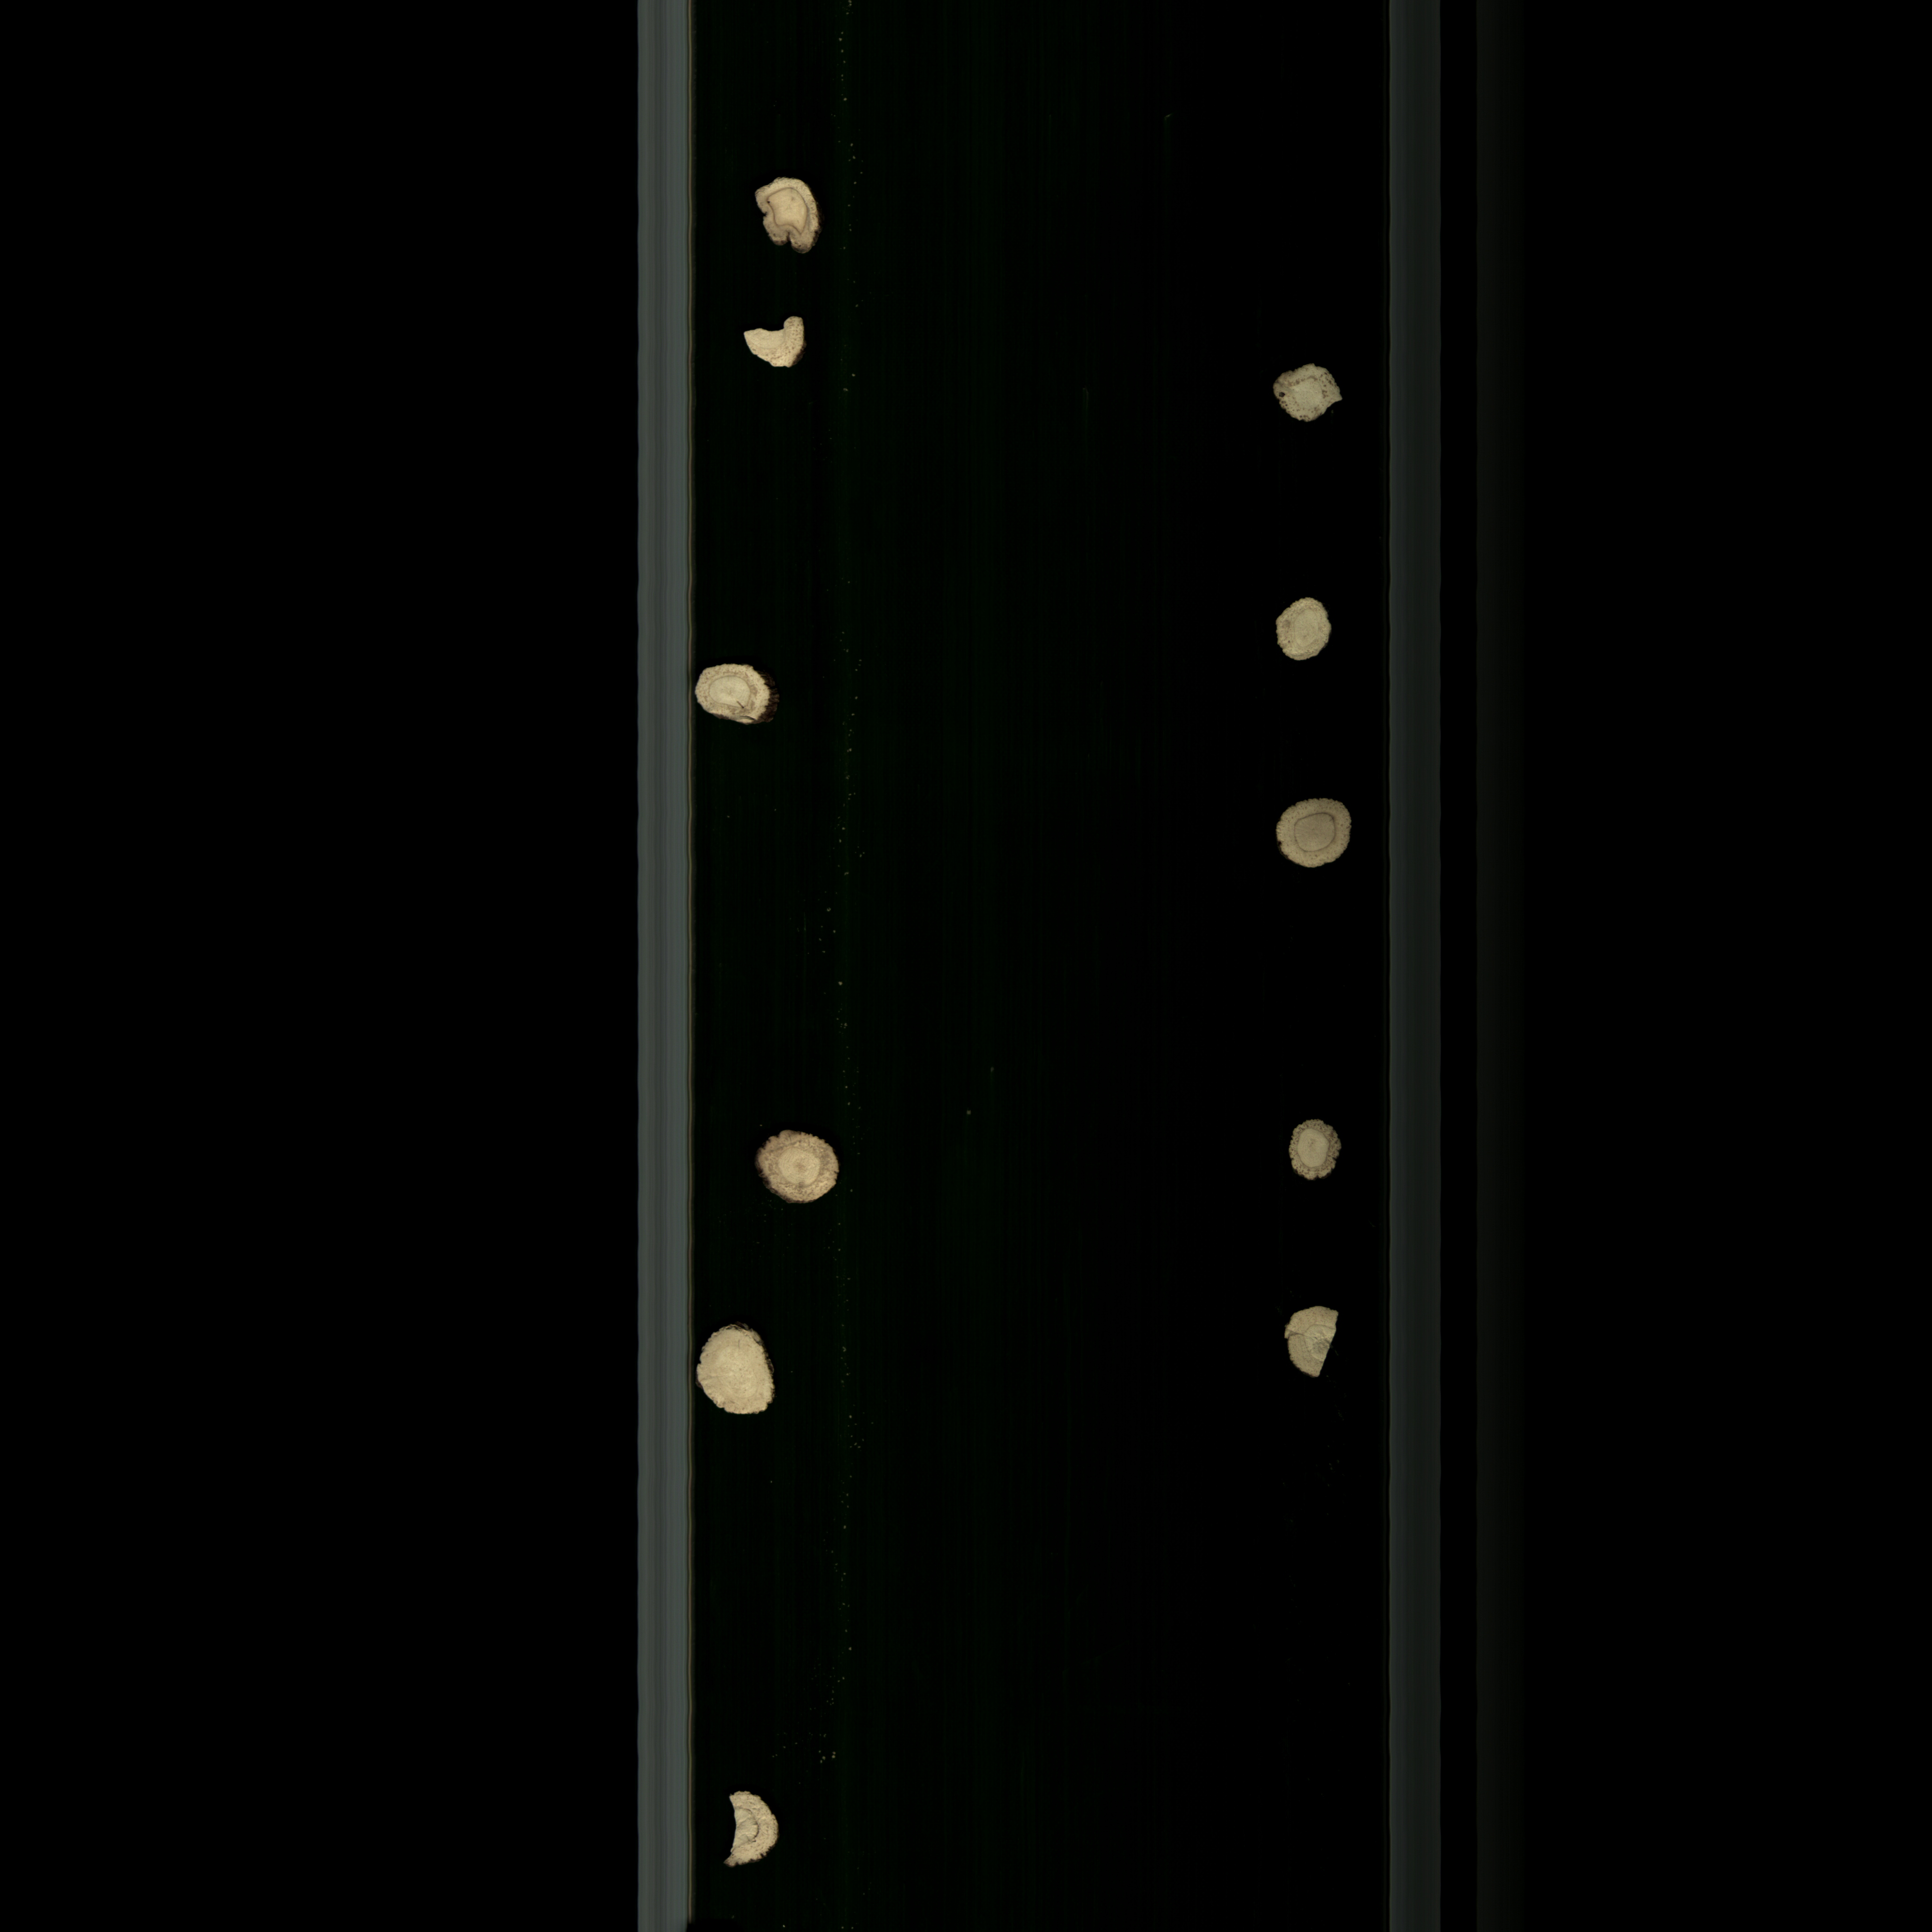debris: (708, 1783, 801, 1877), (732, 313, 821, 373), (1279, 1302, 1343, 1385)
distortion: (690, 655, 787, 732)
moldy: (745, 1131, 856, 1212), (740, 177, 837, 258), (1263, 359, 1355, 439), (1284, 1115, 1350, 1189)
